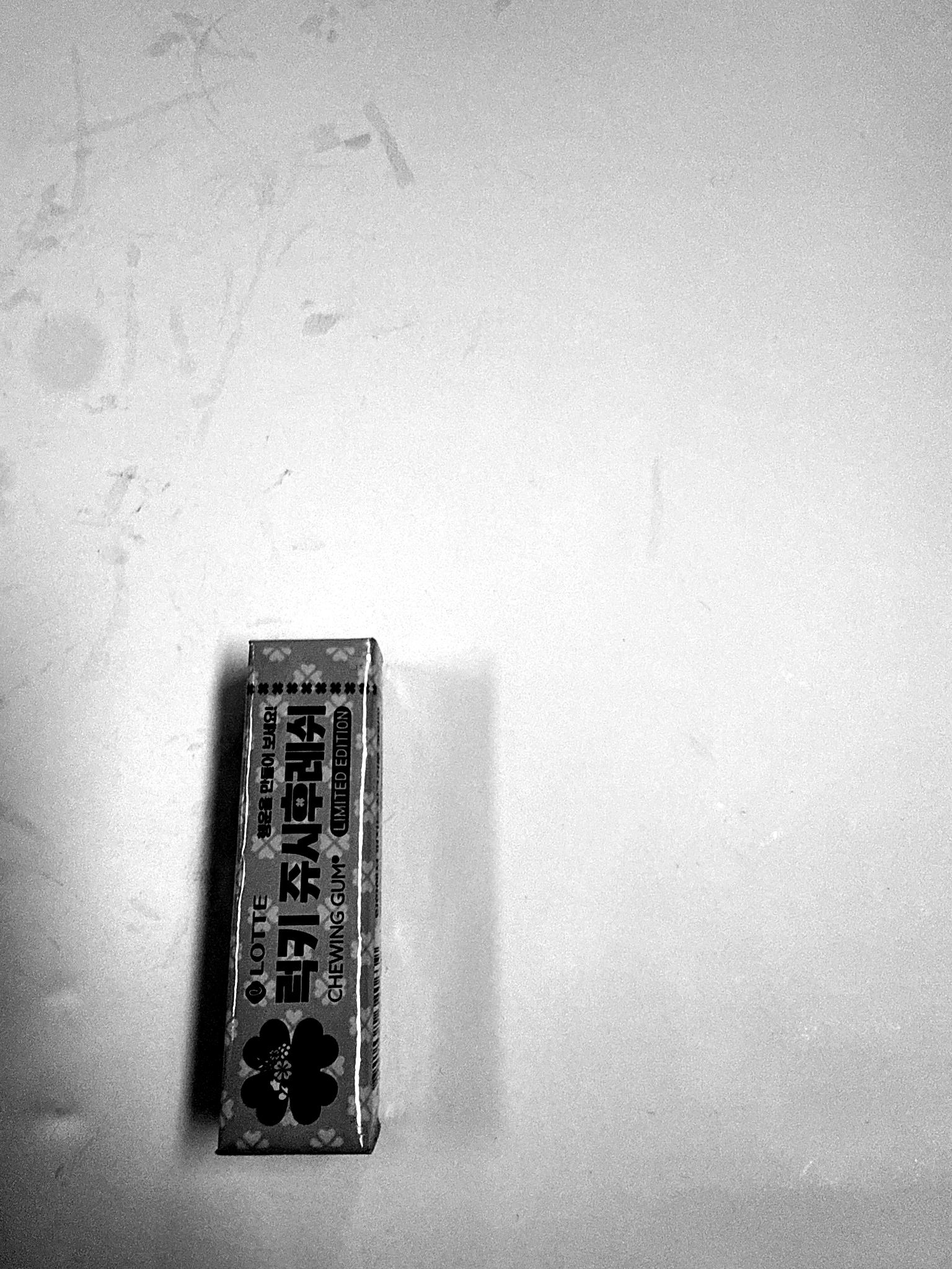gum_yellow: (219, 637, 384, 1152)
